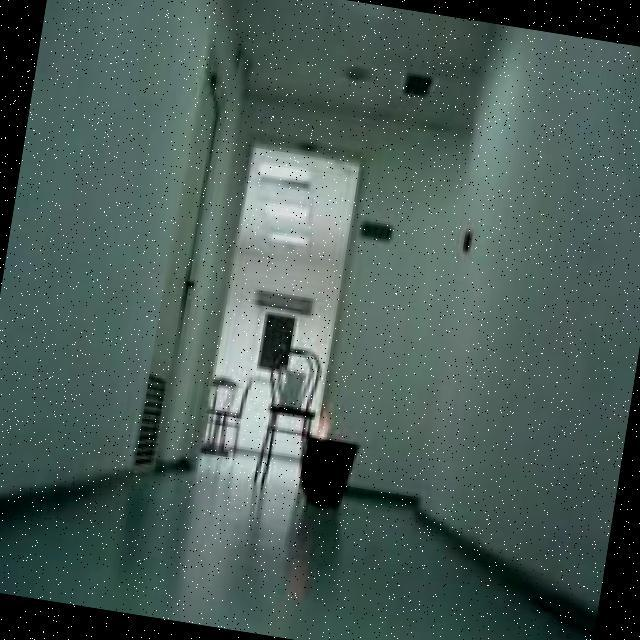Fire: (310, 406, 333, 442)
